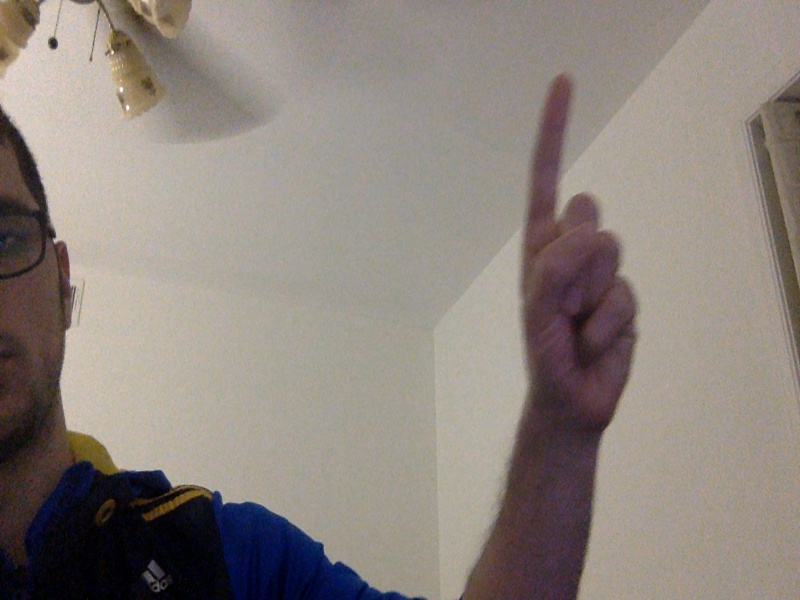1-hand: (521, 71, 643, 437)
